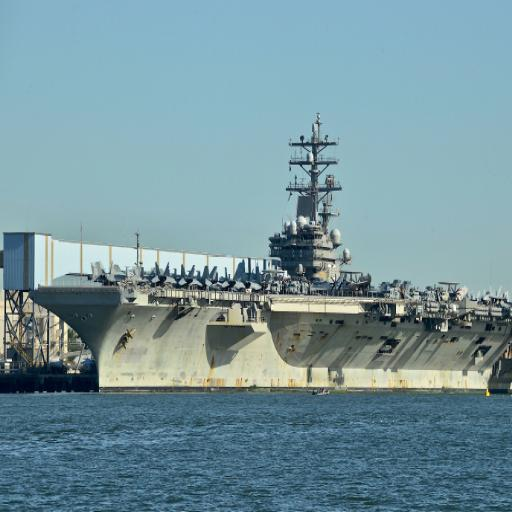Portanaves: (25, 103, 512, 401)
